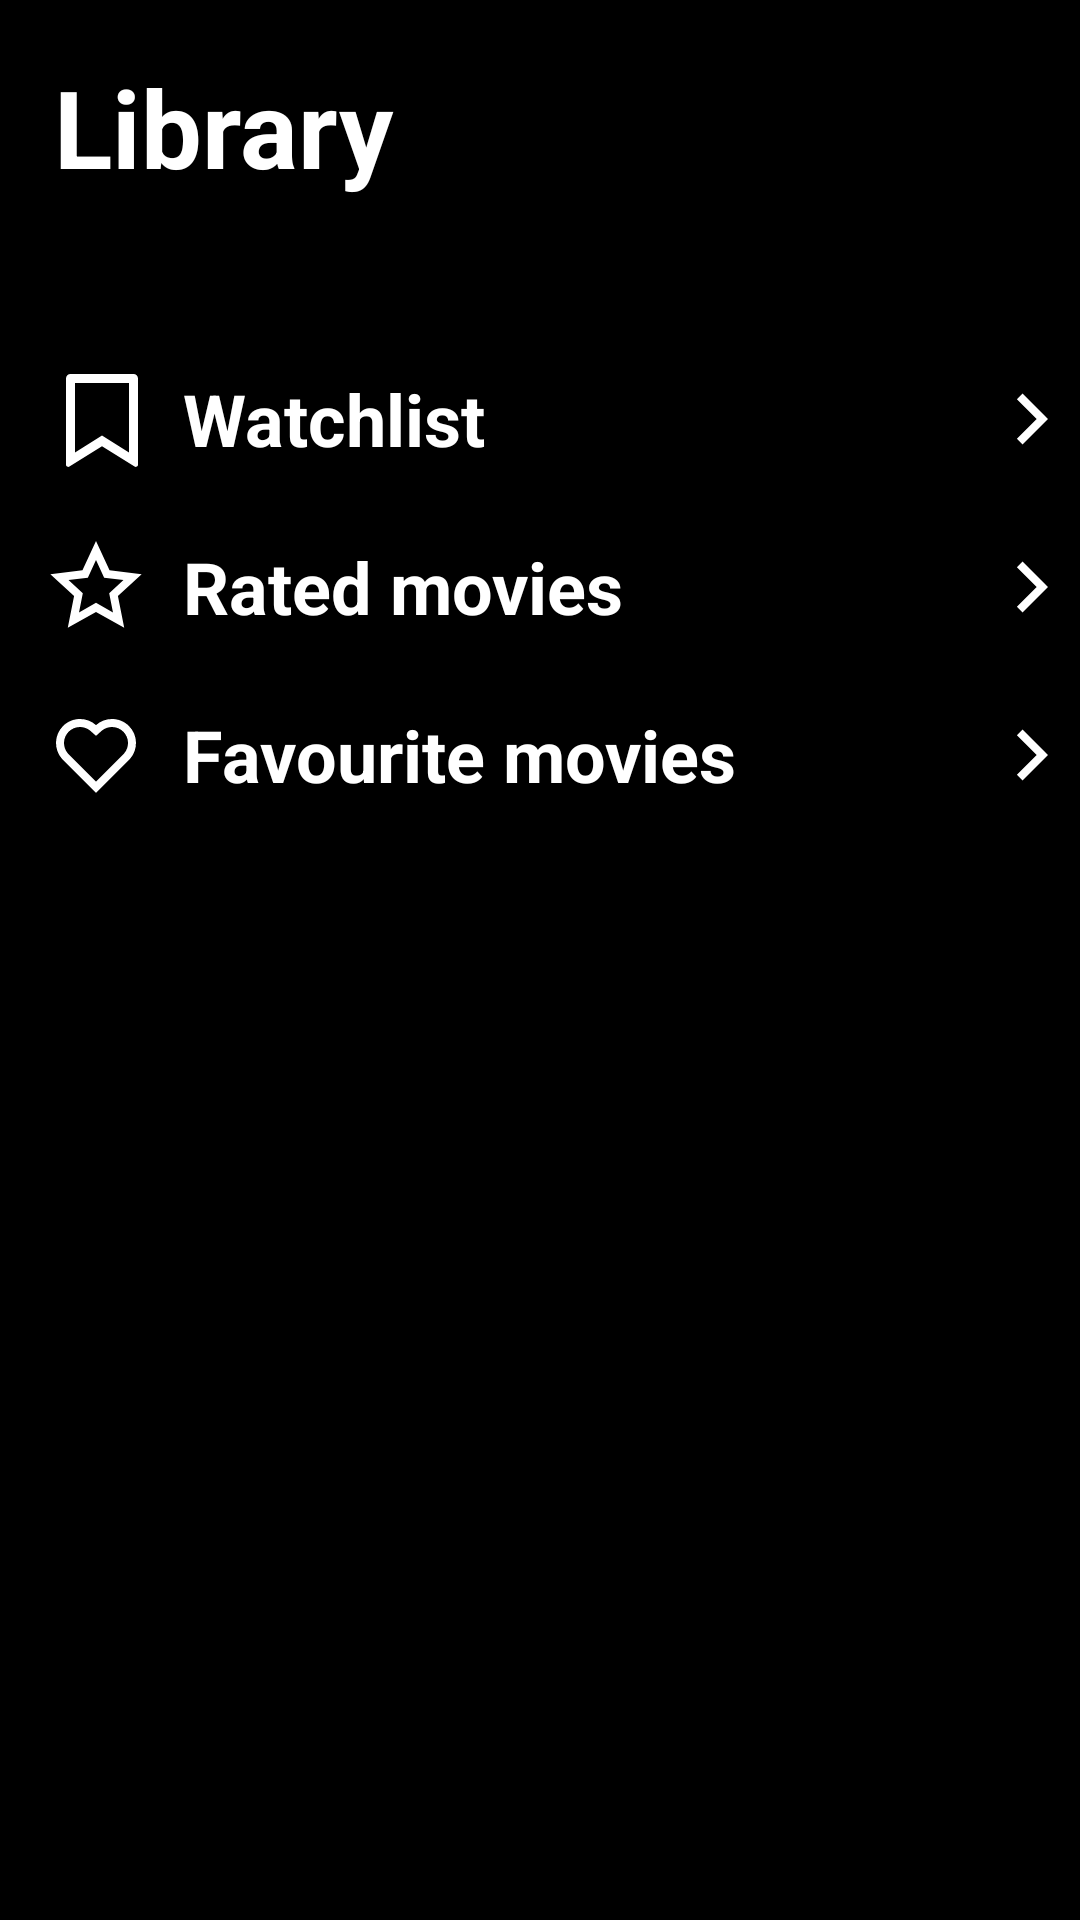

Locate icon controls on the screen. Image size 1080×1920, boxes as (x1, y1, x2, y2).
bookmark: (66, 374, 138, 467)
Enter icon: (1017, 393, 1048, 445), (1017, 561, 1048, 613), (1017, 729, 1048, 781)
heart: (56, 719, 136, 793)
star: (50, 541, 142, 628)
